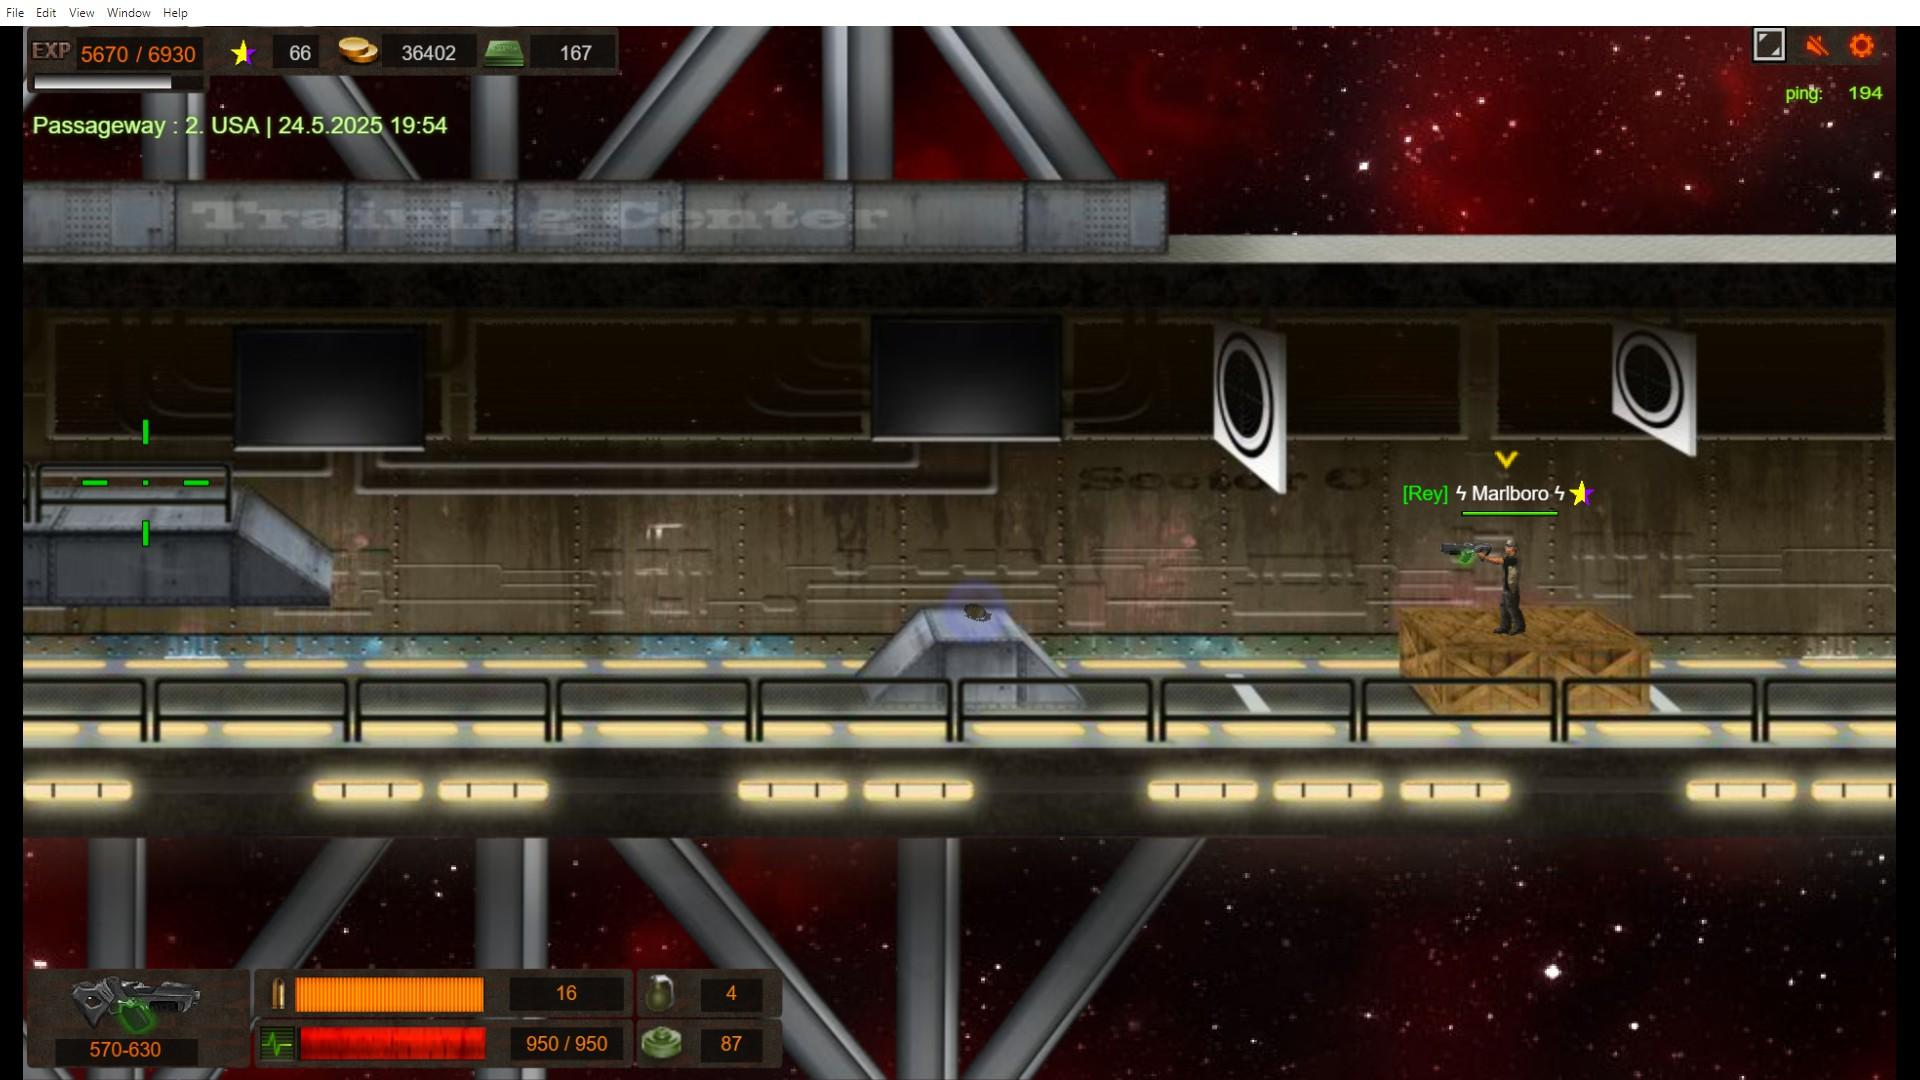enemy: (1497, 542, 1522, 637)
